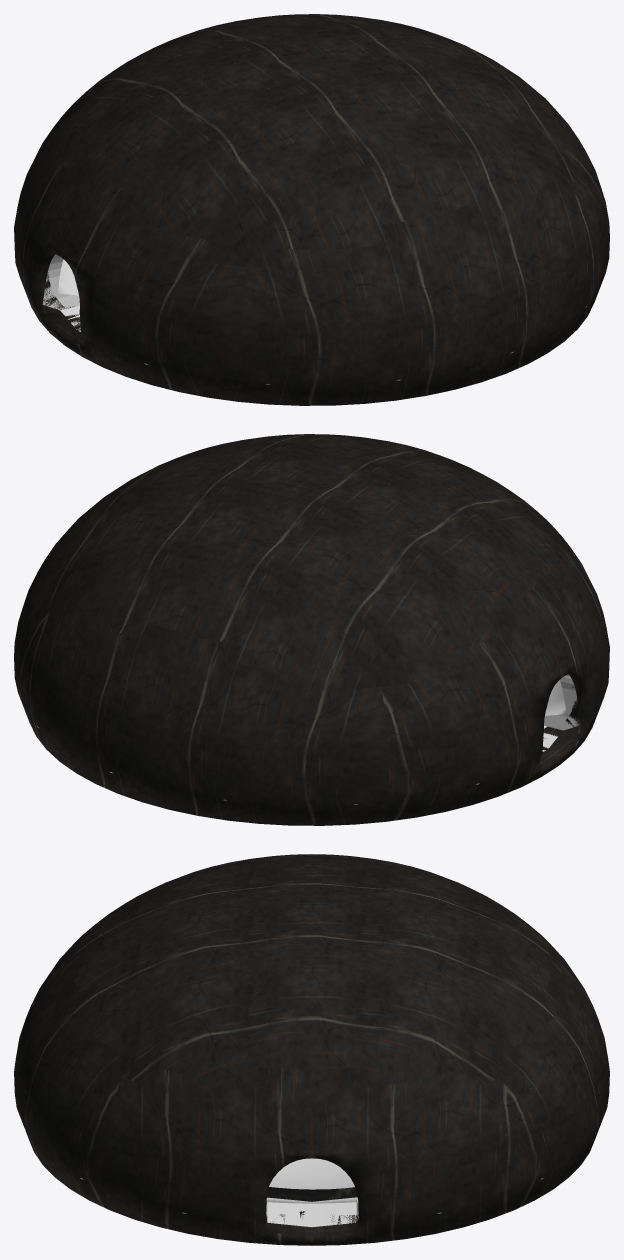
The model's file is CAVE_Chamber_Dome.fbx.
3 renders of one model, top to bottom at view 1: azimuth 30°, elevation 25°; view 2: azimuth 150°, elevation 25°; view 3: azimuth 270°, elevation 25°, orthographic.
Parts seen in each view (by area): view 1: CAVE_Chamber_Dome_LOD0, CAVE_Chamber_Dome_COL; view 2: CAVE_Chamber_Dome_LOD0, CAVE_Chamber_Dome_COL; view 3: CAVE_Chamber_Dome_LOD0, CAVE_Chamber_Dome_COL.
Part boxes in pixels (<box>): CAVE_Chamber_Dome_LOD0: <box>14,14,609,405</box>; CAVE_Chamber_Dome_COL: <box>42,254,586,384</box>; CAVE_Chamber_Dome_LOD0: <box>14,434,609,825</box>; CAVE_Chamber_Dome_COL: <box>37,674,579,804</box>; CAVE_Chamber_Dome_LOD0: <box>14,854,609,1245</box>; CAVE_Chamber_Dome_COL: <box>24,1128,599,1227</box>.
Size of what is drawn, in the model's own units: 31.29 by 16.2 by 31.7.
